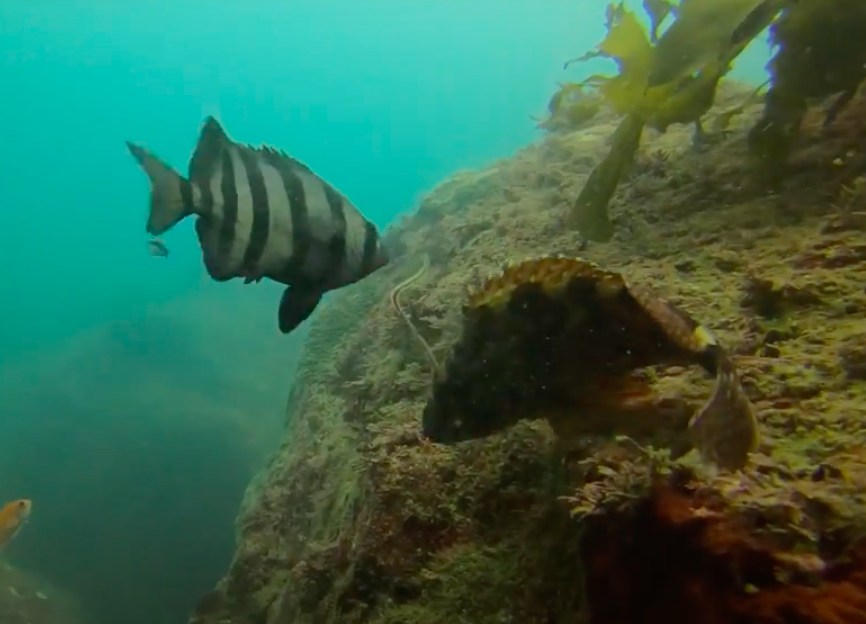ishidai: (123, 106, 394, 355)
kasago: (407, 241, 795, 482)
